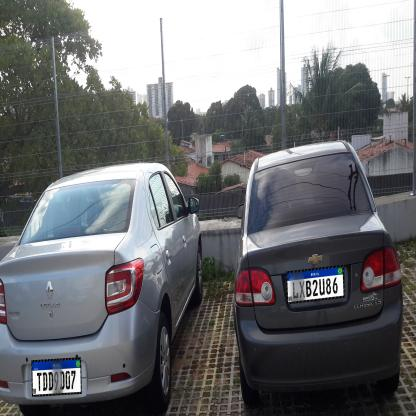PlacaM: (286, 265, 345, 304), (31, 357, 82, 397)
